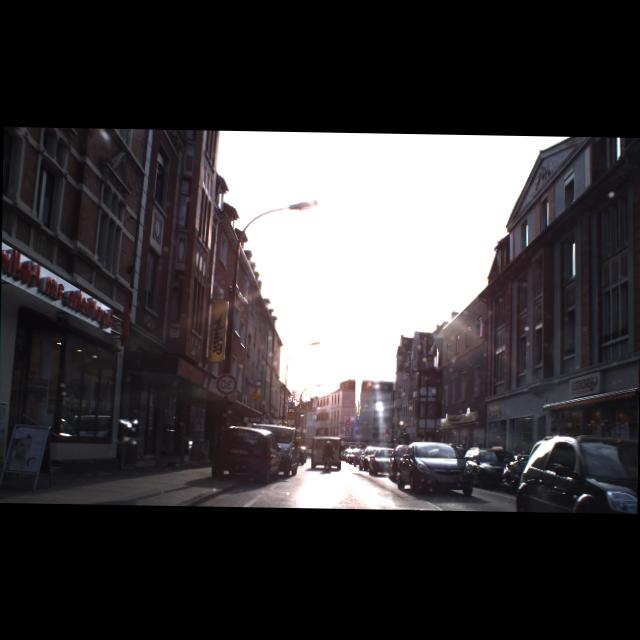prohibitory: (216, 373, 238, 396)
